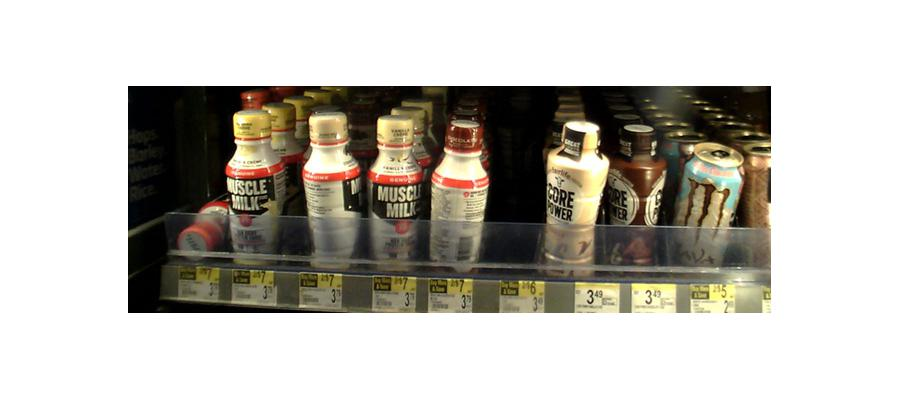bottle: (543, 122, 610, 269), (225, 111, 288, 263), (671, 136, 740, 272), (300, 113, 361, 265), (430, 113, 488, 272), (365, 116, 424, 266), (613, 127, 668, 266)
